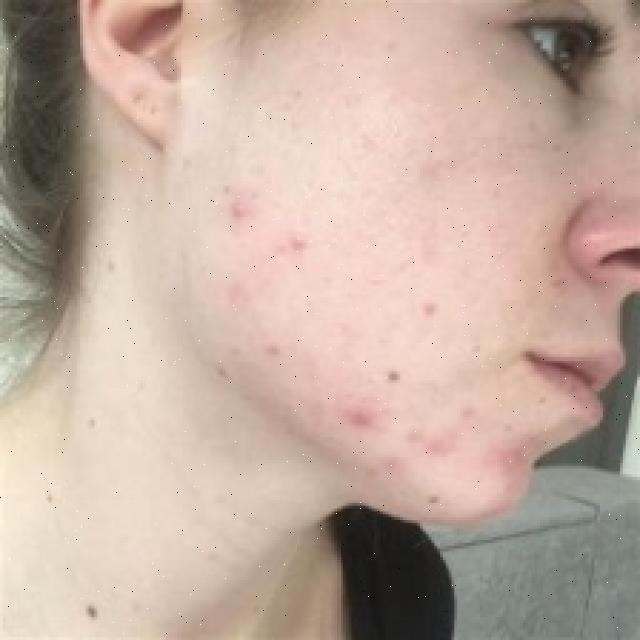Acne: (232, 82, 534, 506)
